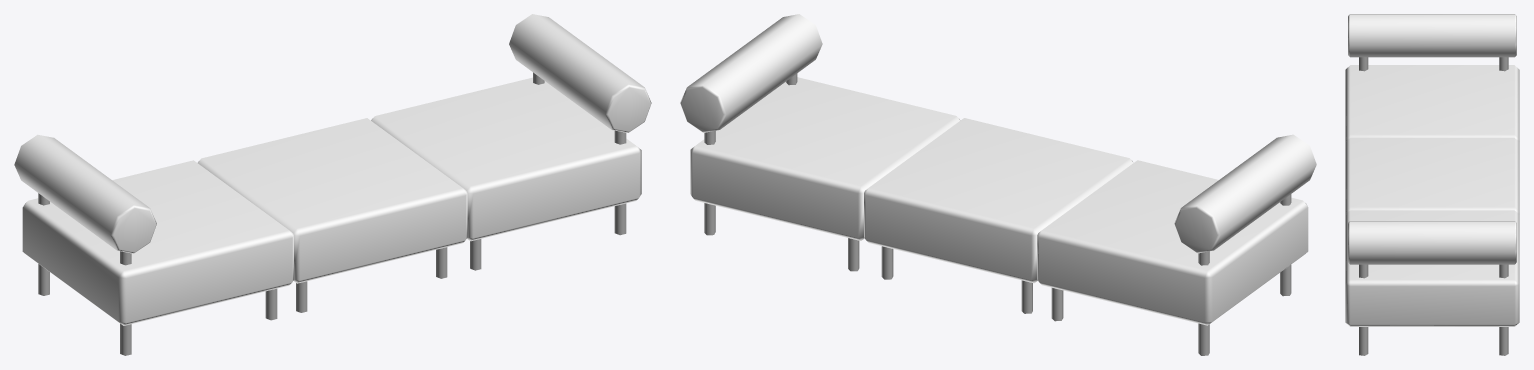
File: sofa_024.fbx
3 views of the same model, side by side, from view 1: azimuth 30°, elevation 25°; view 2: azimuth 150°, elevation 25°; view 3: azimuth 270°, elevation 25° (orthographic). The views are drawn at different scales.
Parts seen in each view (by area): view 1: sofa_024; view 2: sofa_024; view 3: sofa_024.
Part boxes in pixels (box(x1,y1,x2,y2)): sofa_024: box(14, 14, 651, 355); sofa_024: box(680, 14, 1316, 355); sofa_024: box(1345, 14, 1519, 355).
Bounding box in the file's own units: 366 × 119 × 99.51.
